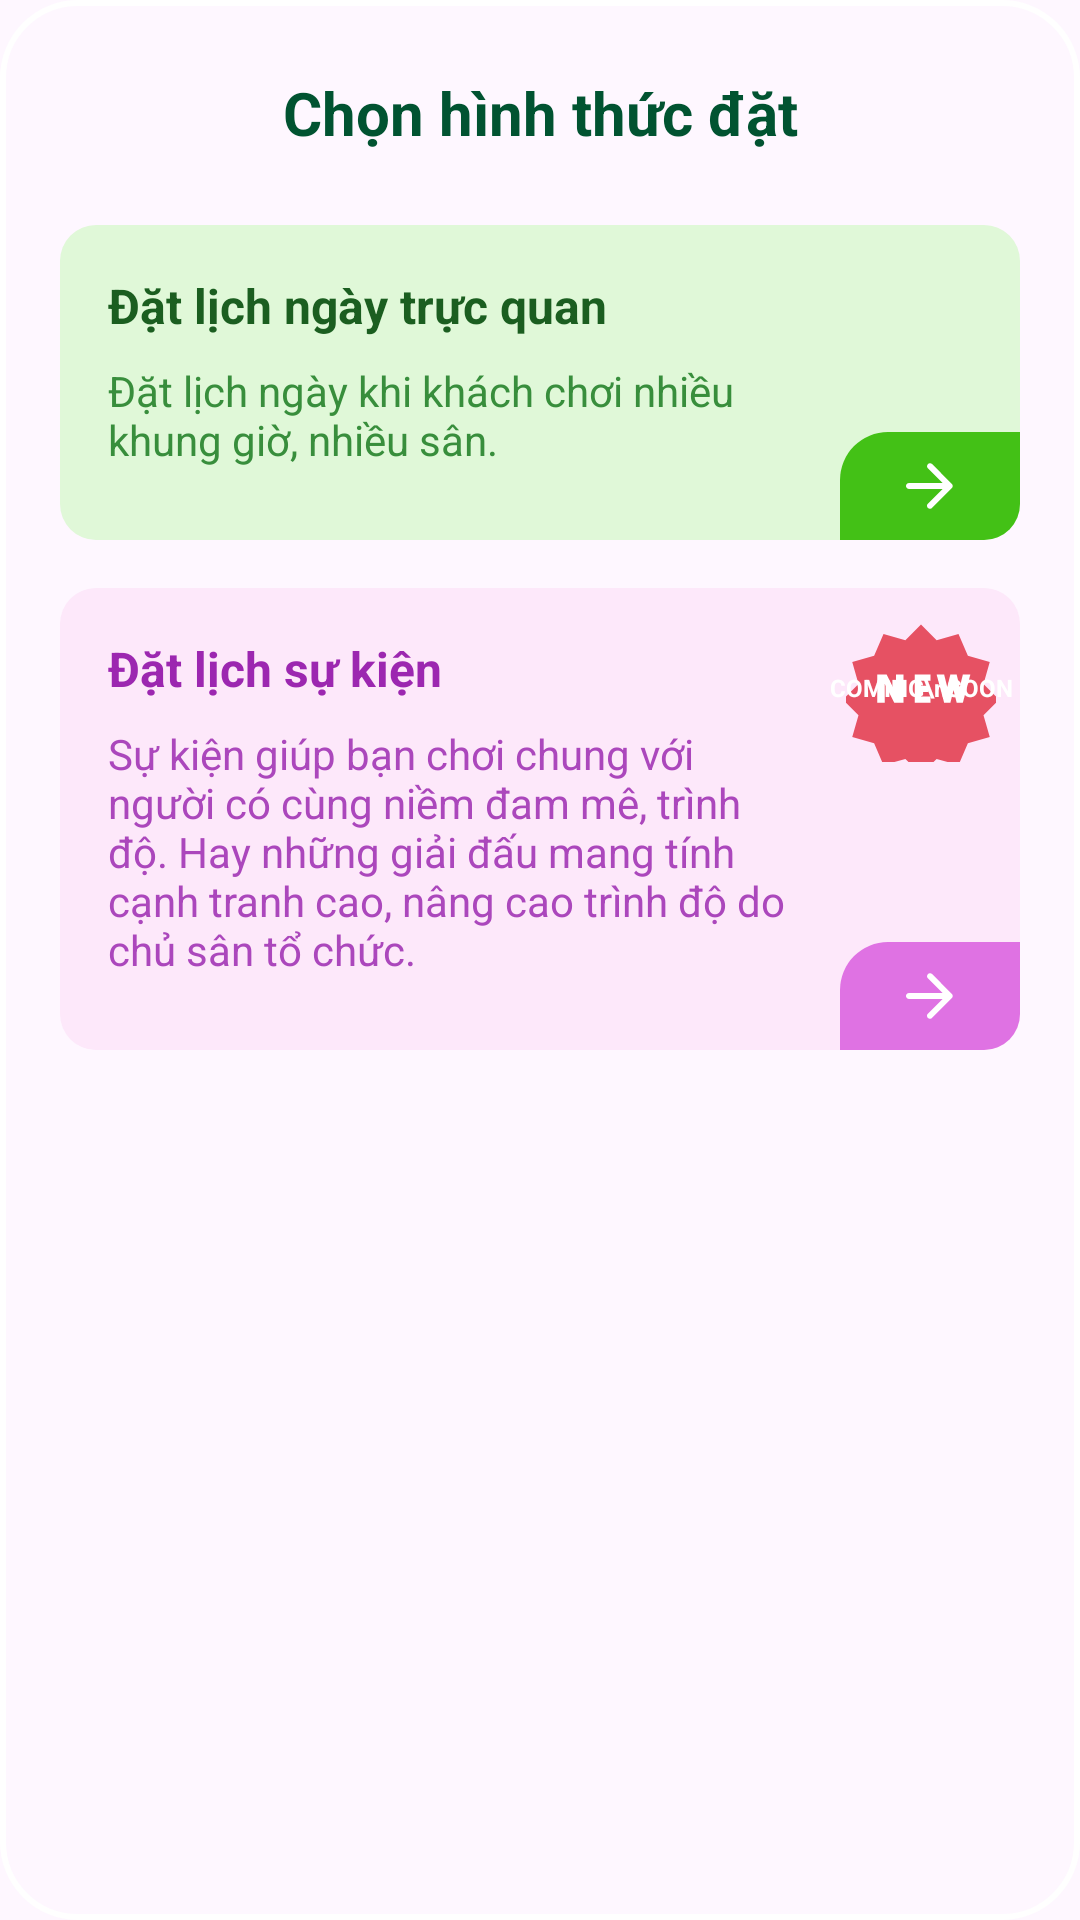

Named icons in this screenshot (1080x1920) and their centers, (x=x, y=y):
arrow forward: (x=930, y=486), (x=930, y=996)
badge: (x=921, y=693)
